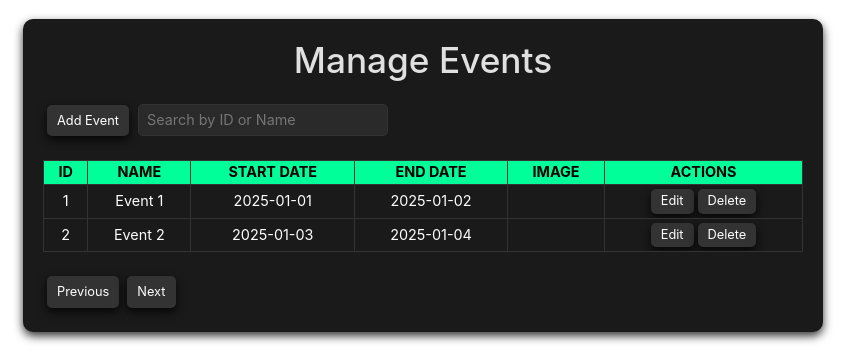
Test: EventsAdmin Component › filters events based on search input
// Search for "Event 1"
Type "Event 1" into the field with placeholder "Search by ID or Name".
click(263, 120); type("Event 1")  # box x1=138 y1=104 x2=388 y2=136
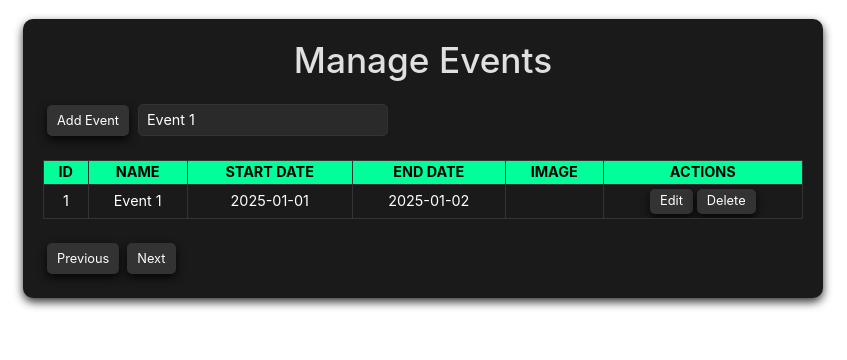
Expected: the text "Event 1" is shown, x1=88 y1=184 x2=187 y2=218
Expected: the text "Event 2" is gone
